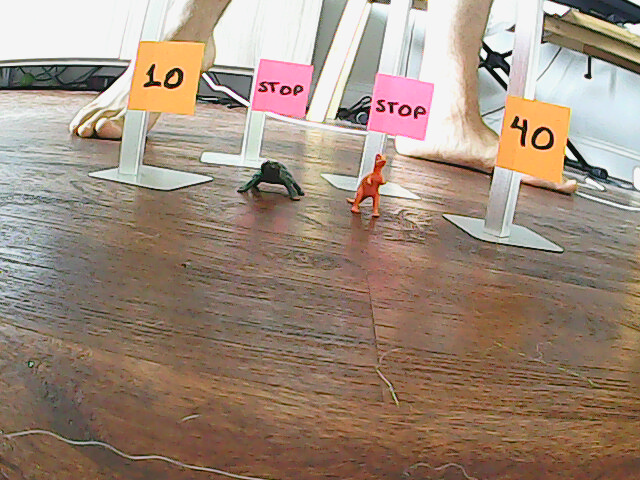10: (138, 46, 190, 112)
40: (507, 103, 563, 175)
dinosaur: (345, 153, 393, 222)
stop: (375, 89, 430, 136), (256, 65, 306, 116)
turtle: (234, 156, 311, 204)
